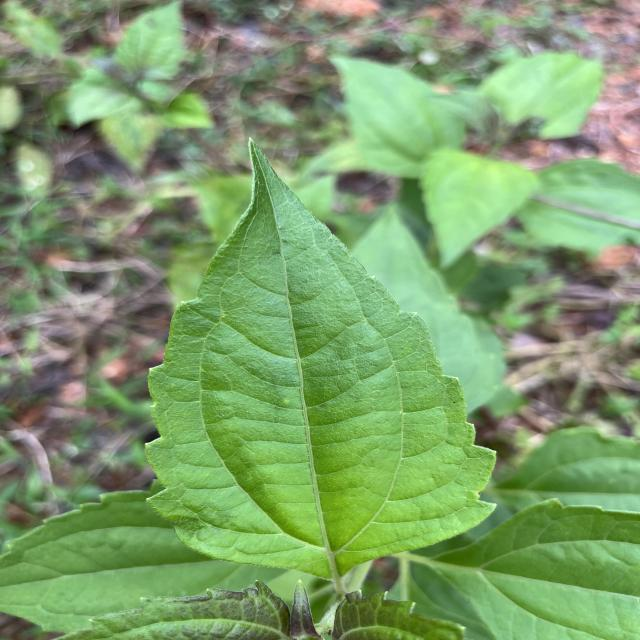Chromolaena odorata: (140, 131, 505, 588)
